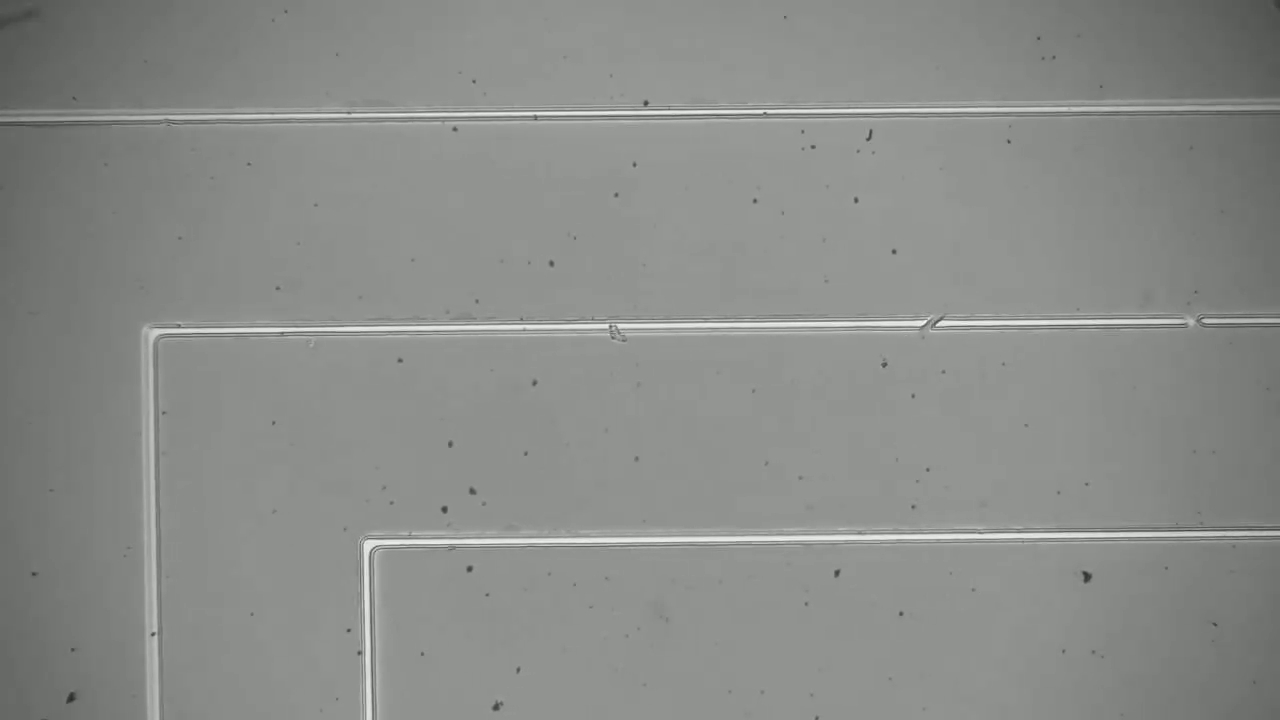open: (1169, 298, 1219, 345), (911, 304, 955, 346)
stains_enbedded: (595, 310, 641, 353)
